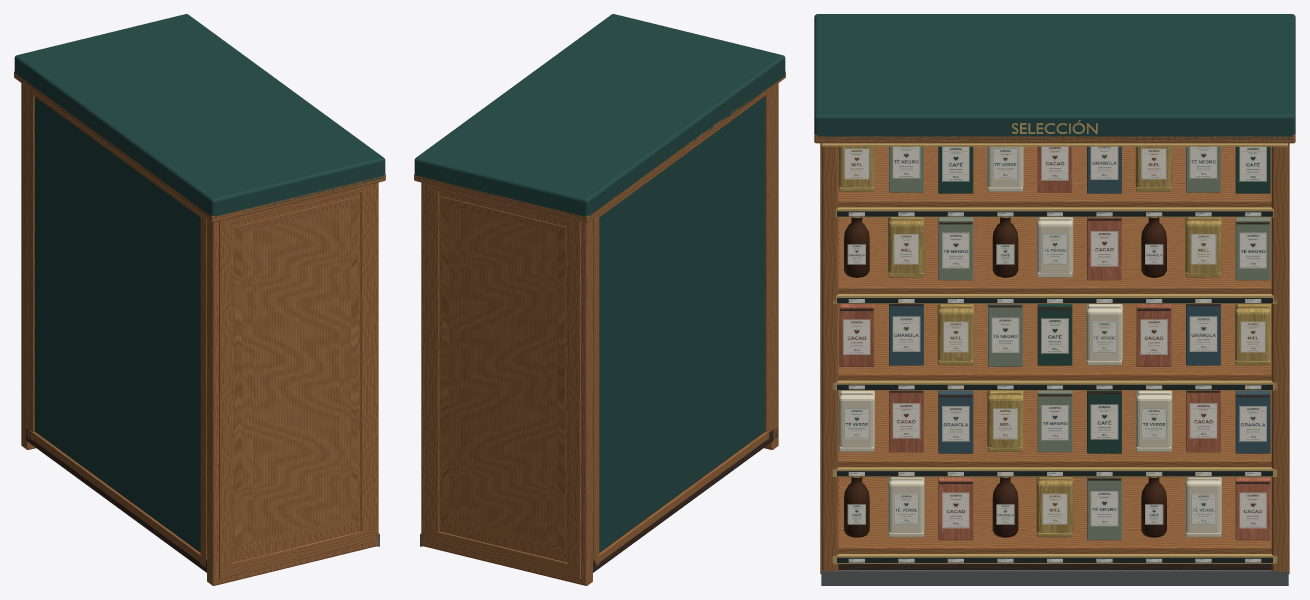
File: hiperreal.glb
The picture shows the model from 3 angles, left to right: view 1: azimuth 30°, elevation 25°; view 2: azimuth 150°, elevation 25°; view 3: azimuth 270°, elevation 25°; orthographic projection. The views are drawn at different scales.
Parts seen in each view (by area): view 1: Back · recessed teal panel, Side frame · raised inset, Crown · rounded teal cap, Oak side · solid panel, Side frame · upright.001, Side frame · upright, Rear oak stile.001, Oak side · solid panel.001, Rear oak stile, Crown · oak undercut, Side frame · cross rail, Rear oak cross rail (+3 smaller); view 2: Back · recessed teal panel, Side frame · raised inset.001, Crown · rounded teal cap, Oak side · solid panel.001, Side frame · upright.003, Side frame · upright.002, Rear oak stile, Oak side · solid panel, Rear oak stile.001, Crown · oak undercut, Side frame · cross rail.002, Rear oak cross rail (+3 smaller); view 3: Crown · rounded teal cap, Shelf 0 · solid oak, Shelf 3 · solid oak, Shelf 1 · solid oak, Shelf 2 · solid oak, Shelf 4 · solid oak, Hiperreal kick plate, Oak side · solid panel, Oak side · solid panel.001, Crown · oak undercut, Shelf 4 · folded brass nose, Shelf 1 · folded brass nose (+96 smaller).
Boxes of the visible parts, x1,y1,x2,y2 form: Back · recessed teal panel: (34,96,200,552); Side frame · raised inset: (234,197,357,552); Crown · rounded teal cap: (14,14,385,218); Oak side · solid panel: (207,182,378,585); Side frame · upright.001: (360,184,373,544); Side frame · upright: (219,221,231,579); Rear oak stile.001: (27,87,34,440); Oak side · solid panel.001: (21,83,35,449); Rear oak stile: (200,216,206,567); Crown · oak undercut: (14,71,385,222); Side frame · cross rail: (219,529,373,578); Rear oak cross rail: (31,431,202,563); Back · recessed teal panel: (599,96,765,552); Side frame · raised inset.001: (442,197,565,552); Crown · rounded teal cap: (414,14,785,219); Oak side · solid panel.001: (421,182,592,585); Side frame · upright.003: (426,184,439,544); Side frame · upright.002: (568,218,580,579); Rear oak stile: (765,87,772,435); Oak side · solid panel: (764,83,778,449); Rear oak stile.001: (593,216,599,566); Crown · oak undercut: (414,71,785,222); Side frame · cross rail.002: (426,529,580,578); Rear oak cross rail: (597,431,768,563); Crown · rounded teal cap: (814,14,1295,139); Shelf 0 · solid oak: (838,477,1271,553); Shelf 3 · solid oak: (838,217,1271,293); Shelf 1 · solid oak: (838,390,1271,467); Shelf 2 · solid oak: (838,304,1271,380); Shelf 4 · solid oak: (838,146,1271,207); Hiperreal kick plate: (821,570,1288,585); Oak side · solid panel: (822,146,838,570); Oak side · solid panel.001: (1271,146,1287,570); Crown · oak undercut: (814,134,1295,143); Shelf 4 · folded brass nose: (833,207,1276,217); Shelf 1 · folded brass nose: (832,467,1277,477).
Bounding box in the file's own units: 1.05 × 2.24 × 2.07.
Materials: 15 (5 with a texture image).
